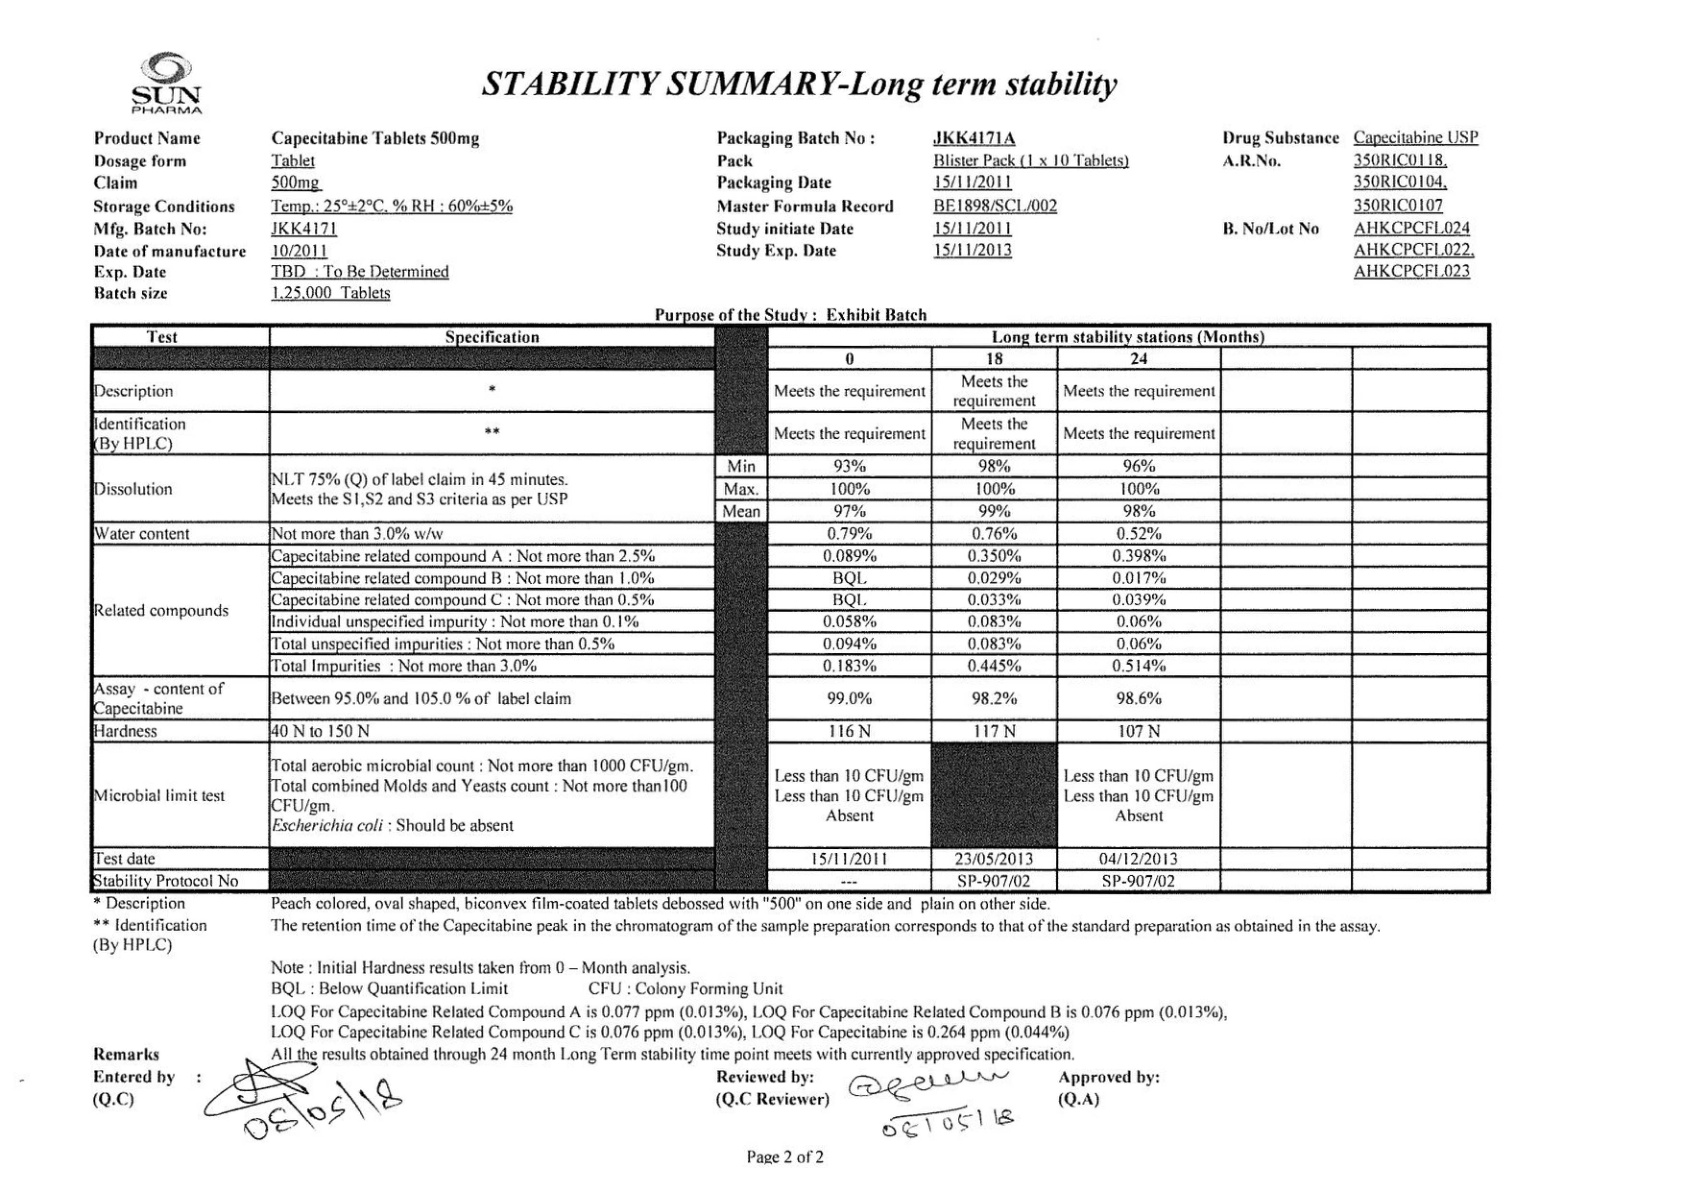merged_cells: (86, 321, 1493, 895)
nolines: (89, 126, 518, 306), (710, 126, 1137, 264), (1220, 129, 1482, 284)
